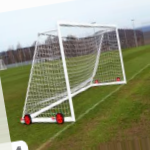goals: (18, 21, 128, 124)
